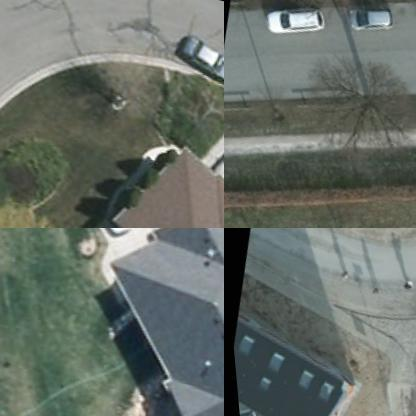car: (255, 0, 325, 46), (170, 36, 223, 94), (340, 0, 394, 39), (201, 127, 223, 200)
